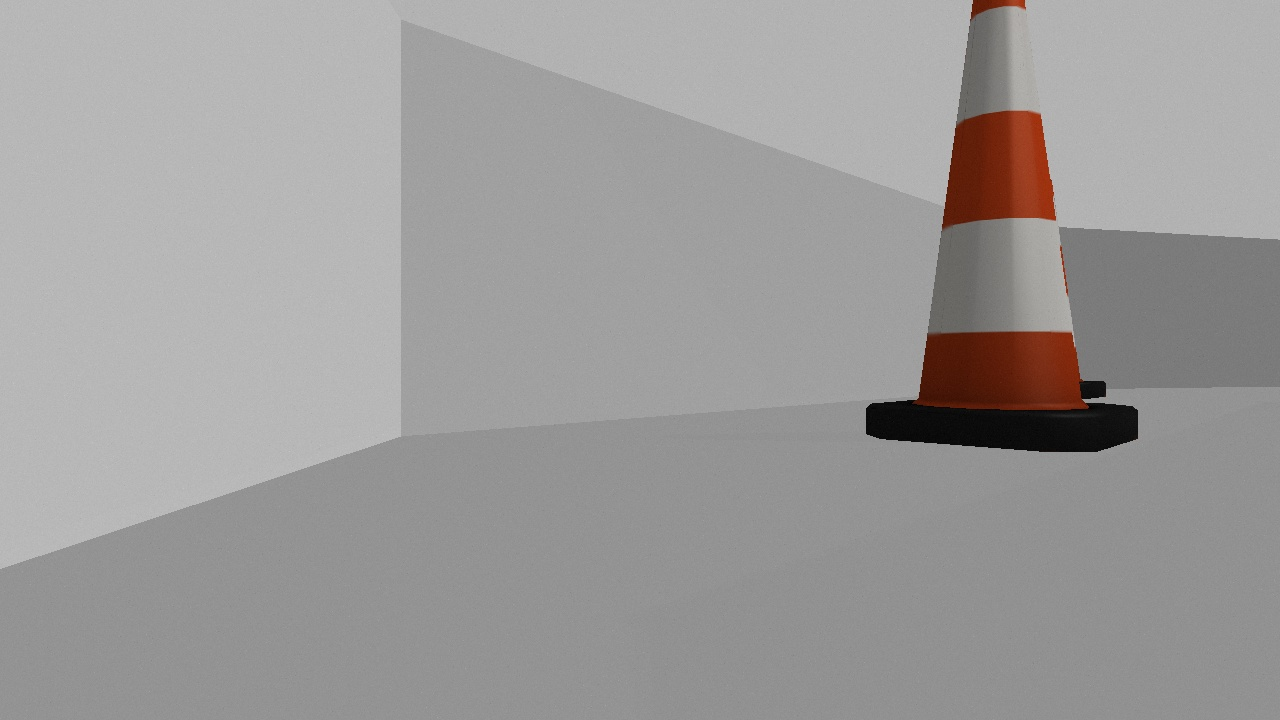barricade: (868, 3, 1139, 450)
